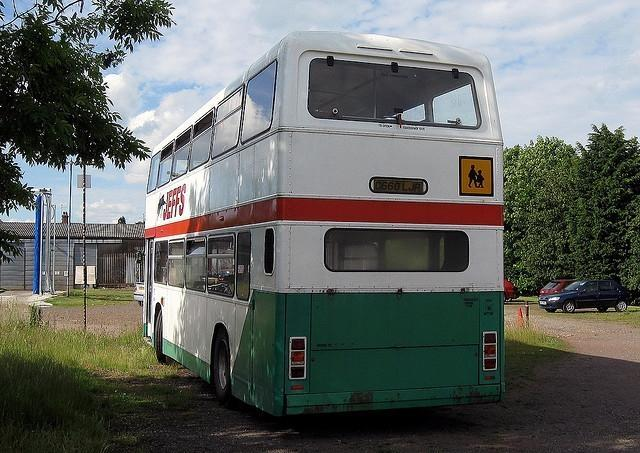bus: (138, 34, 500, 416)
car: (538, 278, 636, 314), (539, 278, 576, 296), (502, 277, 517, 308), (134, 282, 144, 306)
